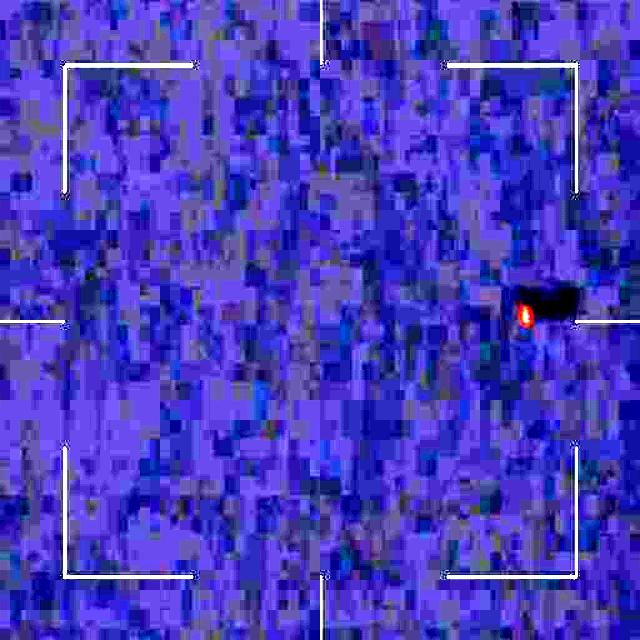bird: (512, 291, 535, 339)
